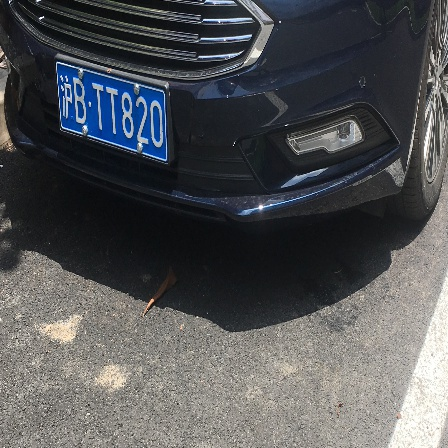plate: (49, 60, 170, 167)
